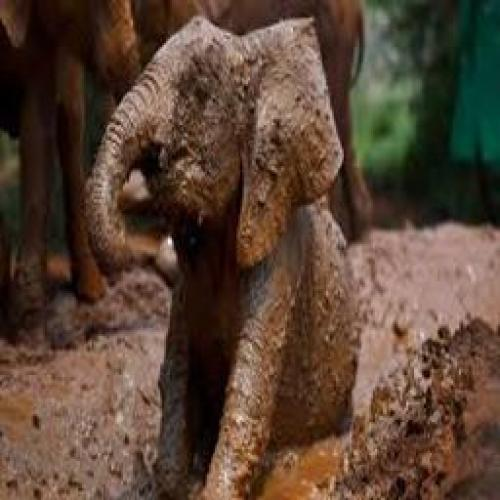african_elephant-endangered: (84, 20, 364, 500)
